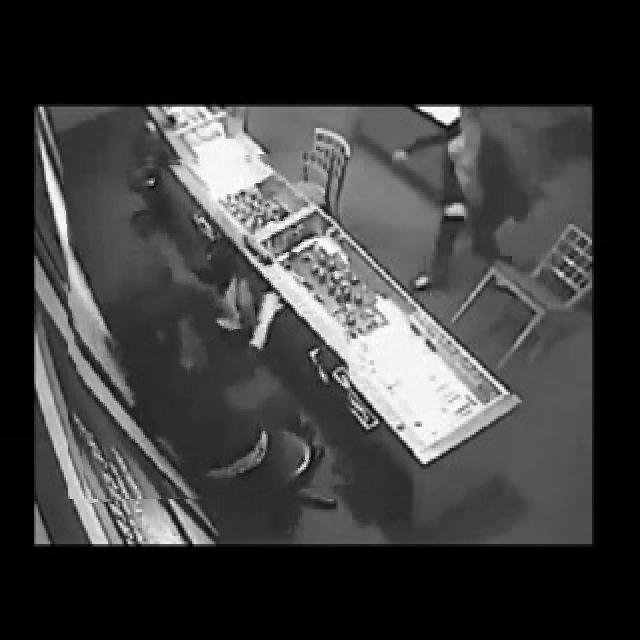Shoplifting: (68, 154, 352, 499)
